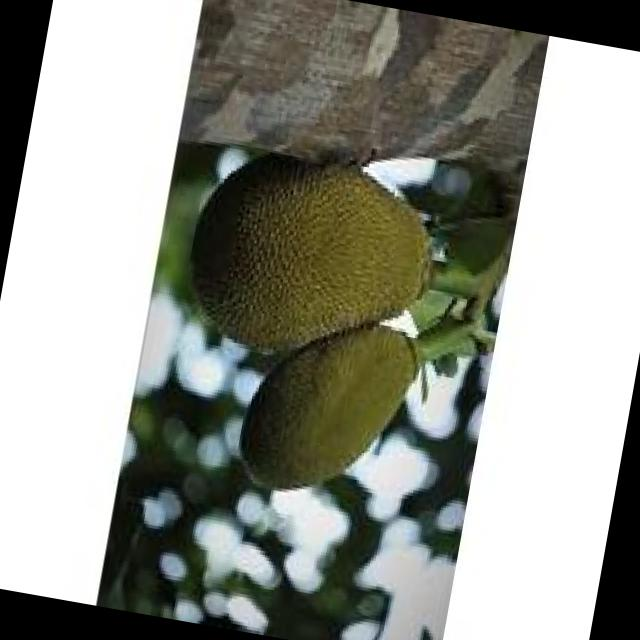Fruit: (161, 126, 453, 384), (203, 284, 445, 532)
